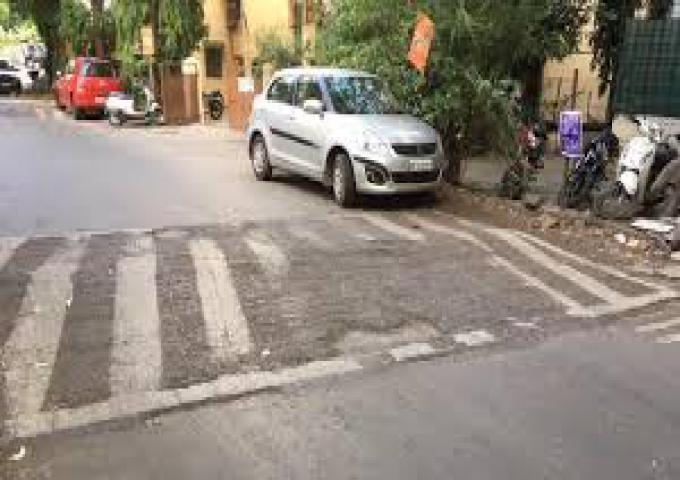speedbreaker: (0, 201, 582, 431)
